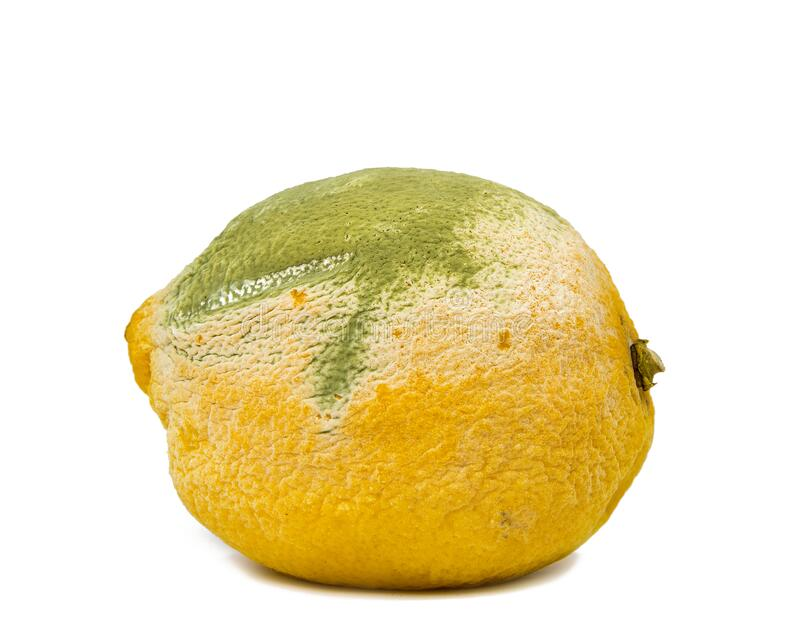lemon: (124, 166, 656, 592)
rotten: (159, 166, 572, 434)
